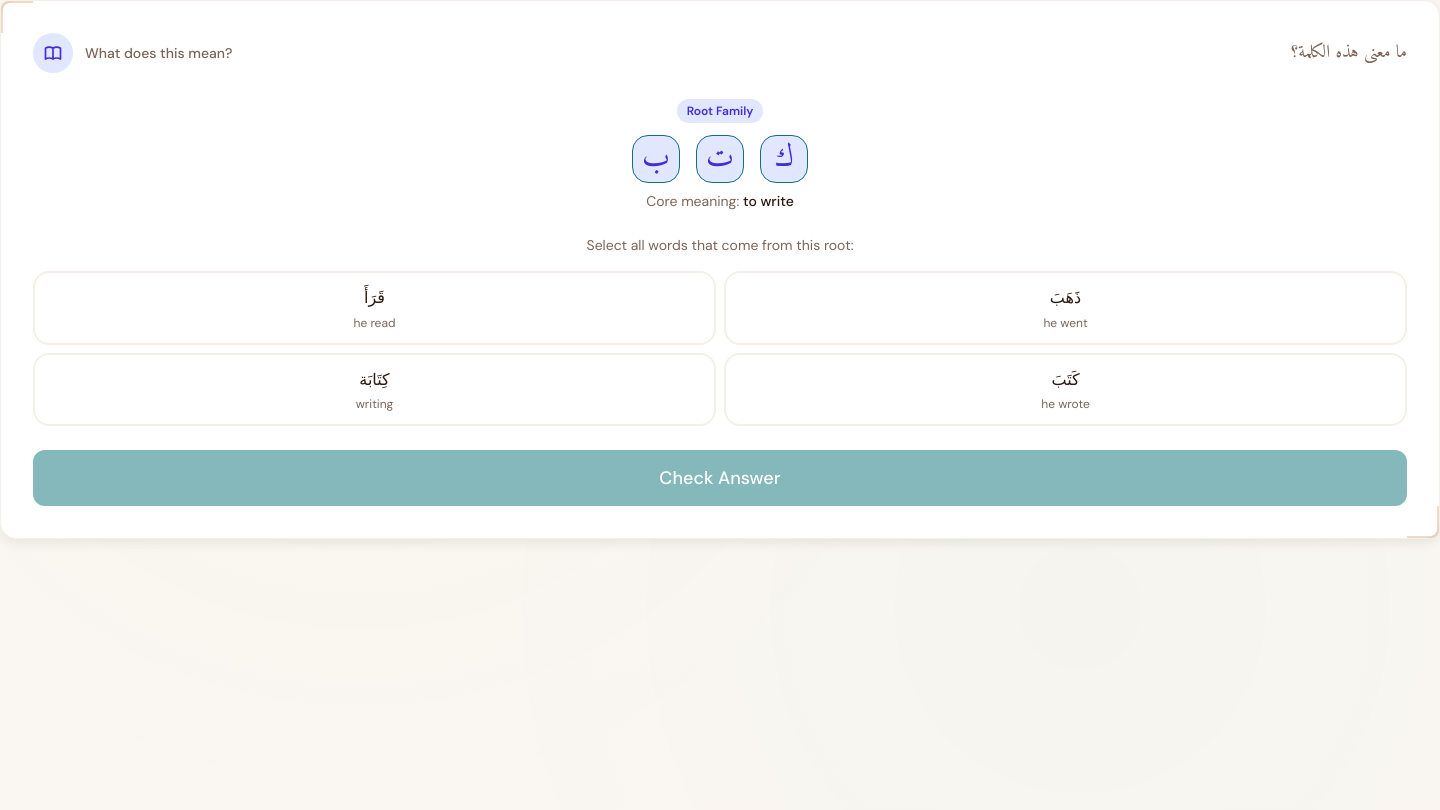
RootFamilyExercise - Edge Cases › Check Answer button is disabled until words selected for family-builder
This screenshot has width=1440, height=810.
Expected: the button "Check Answer" is disabled, [33,450,1407,506]
Select a word
Click the button "كَتَبَ he wrote" at (1066, 389), box [724,353,1407,426]
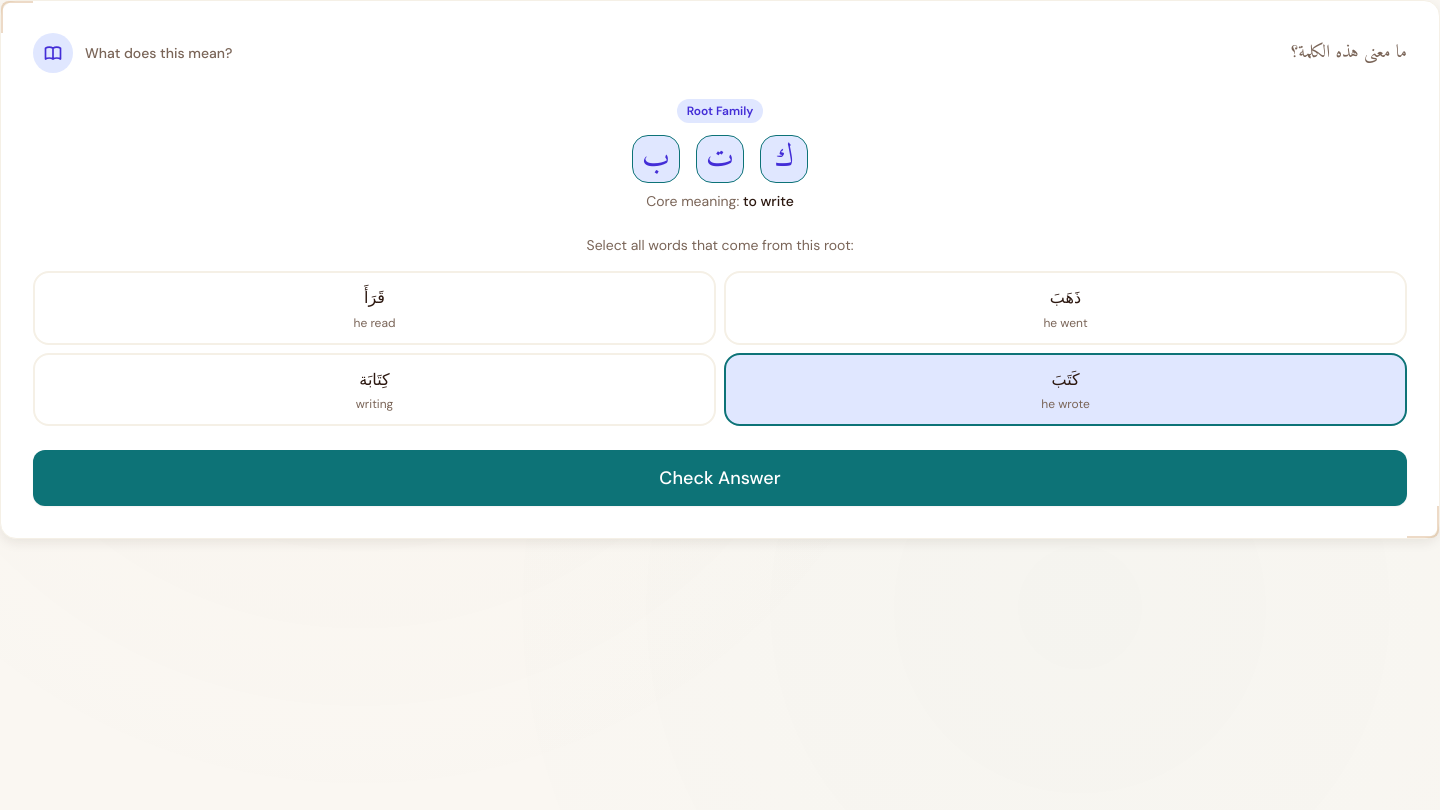
Result: the button "Check Answer" is enabled at [33,450,1407,506]
